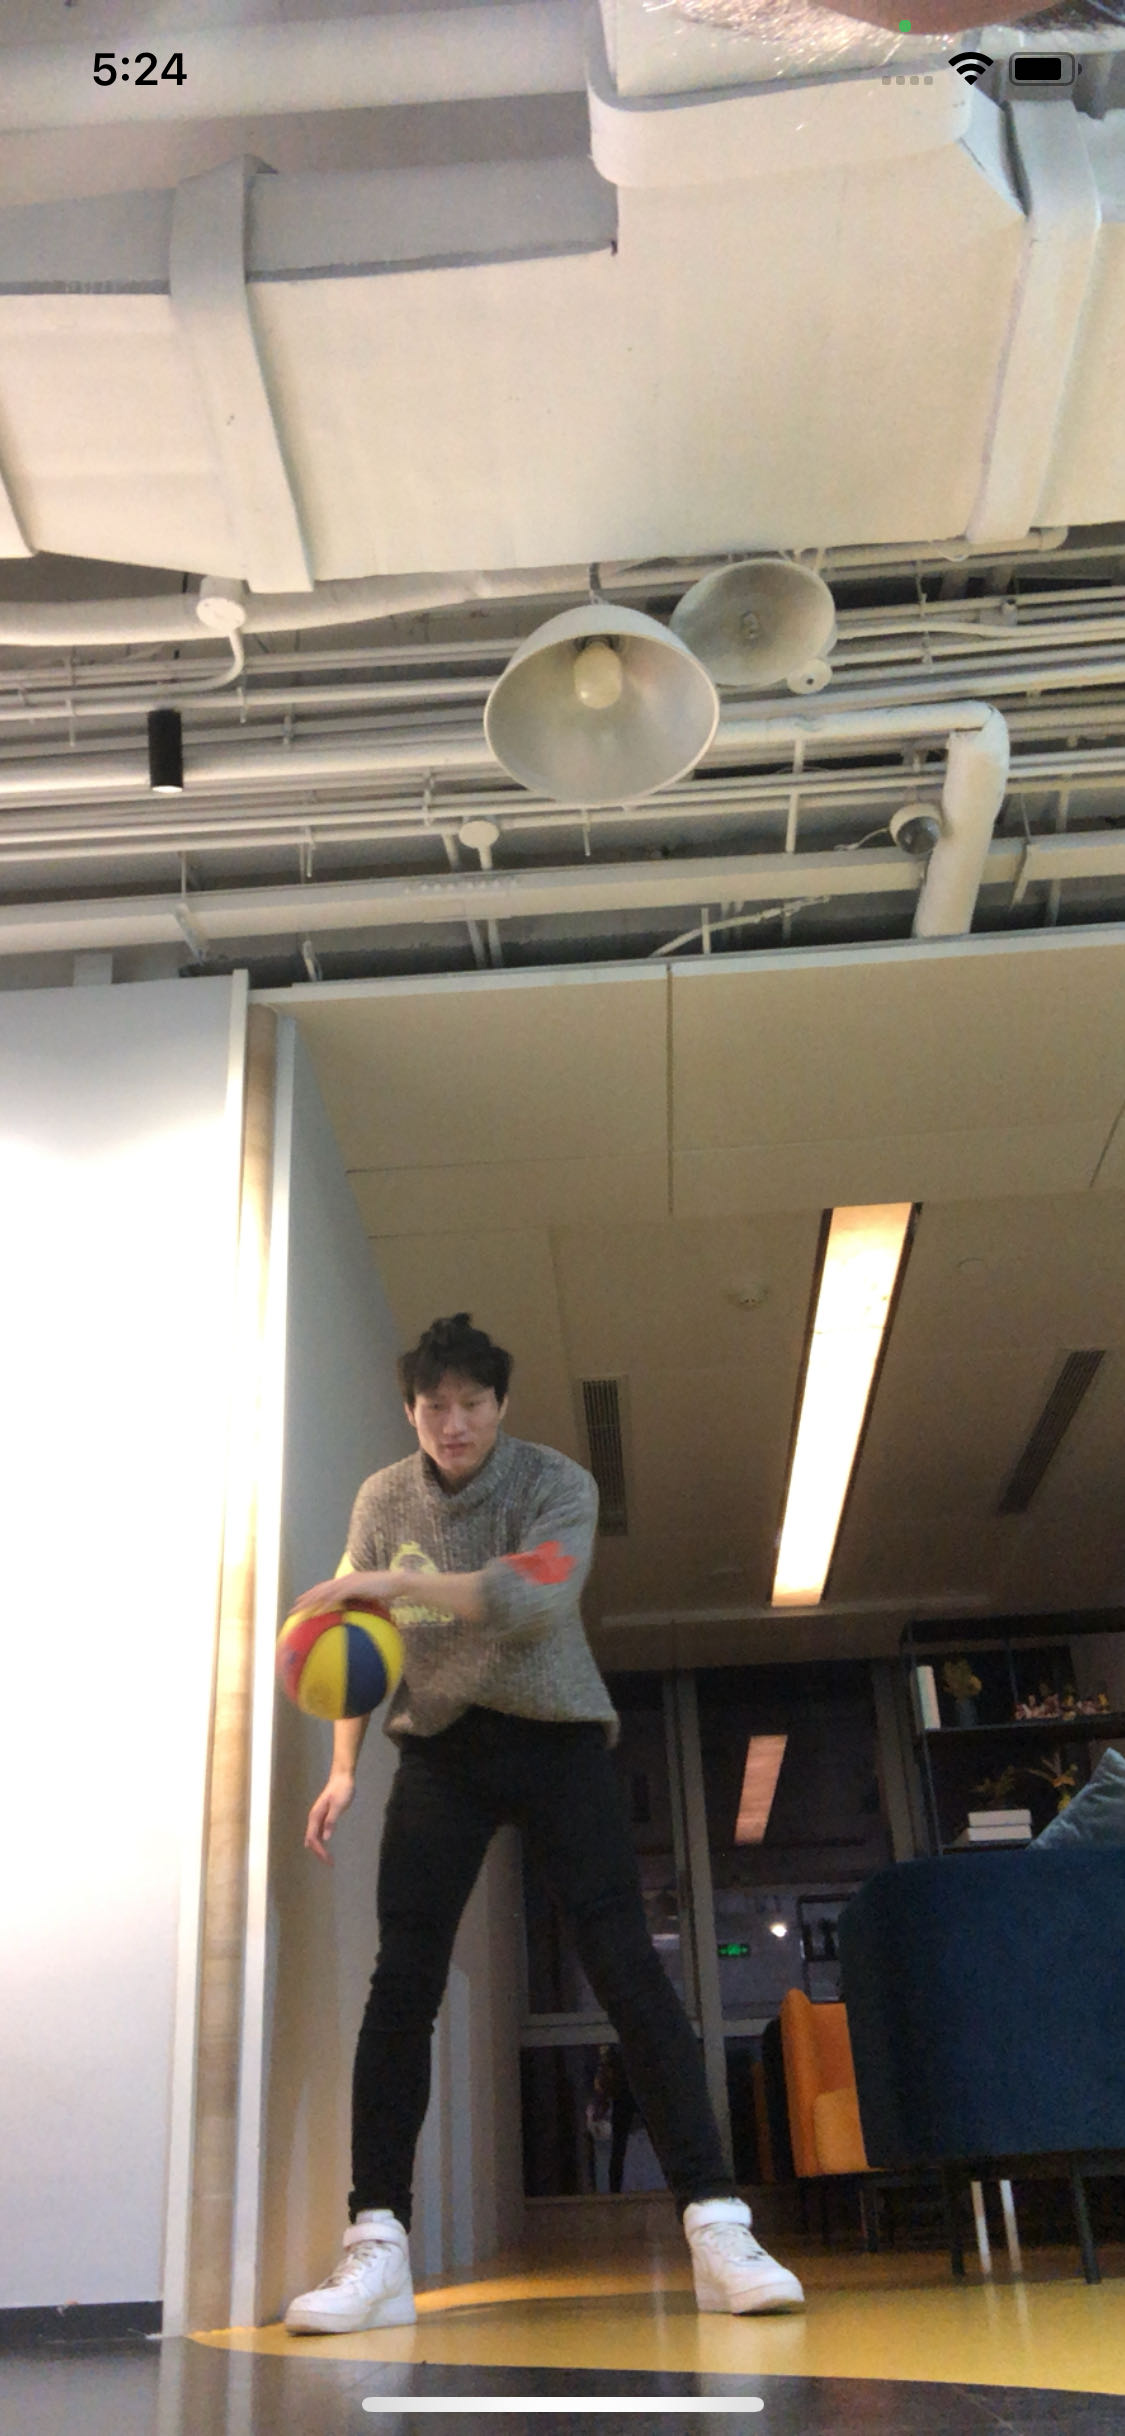ball: (280, 1586, 416, 1720)
